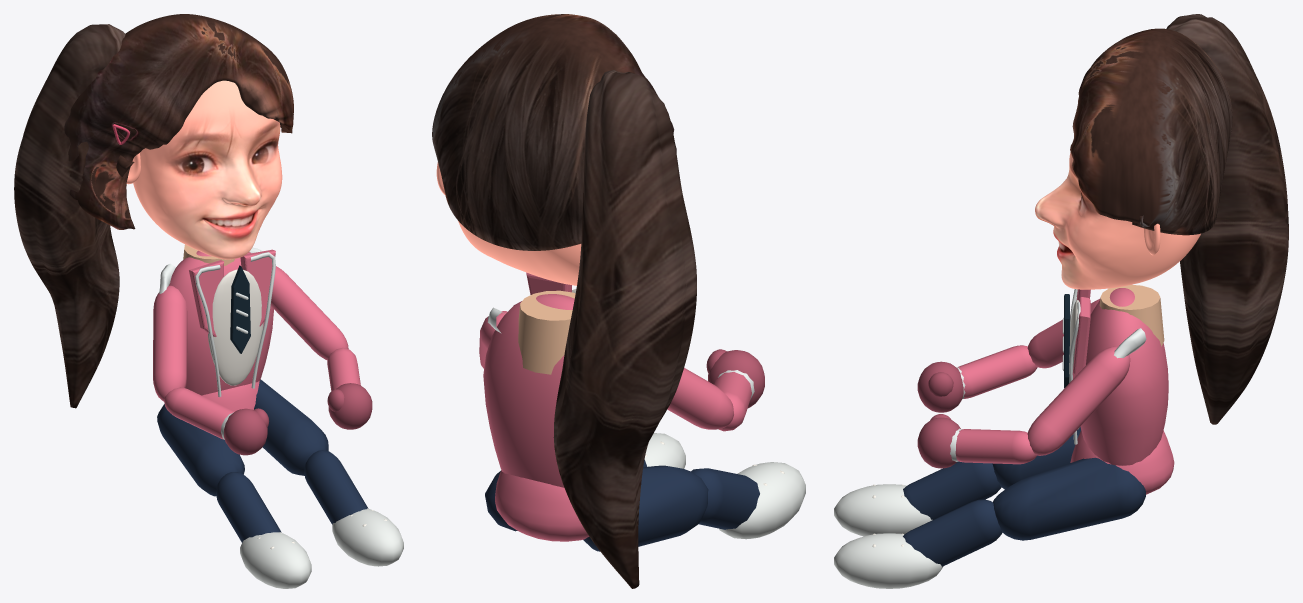
File: girl.glb
3 renders of one model, left to right at view 1: azimuth 30°, elevation 25°; view 2: azimuth 150°, elevation 25°; view 3: azimuth 270°, elevation 25°, orthographic. The views are drawn at different scales.
Parts seen in each view (by area): view 1: PortraitHair_girl, Driver_girl, PortraitVolumeFace, UpperArm_L, UpperArm_R, Forearm_L, Hand_L, Hand_R, Forearm_R; view 2: PortraitHair_girl, Driver_girl, PortraitVolumeFace, UpperArm_L, Hand_L, Forearm_L, UpperArm_R; view 3: PortraitHair_girl, Driver_girl, PortraitVolumeFace, UpperArm_R, Forearm_R, Forearm_L, Hand_L, Hand_R, UpperArm_L.
Boxes of the visible parts, <box> form: PortraitHair_girl: <box>14,14,293,408</box>; Driver_girl: <box>157,244,403,588</box>; PortraitVolumeFace: <box>133,80,282,259</box>; UpperArm_L: <box>153,285,187,401</box>; UpperArm_R: <box>270,266,348,360</box>; Forearm_L: <box>164,387,234,439</box>; Hand_L: <box>224,408,269,455</box>; Hand_R: <box>327,383,372,429</box>; Forearm_R: <box>327,347,360,390</box>; PortraitHair_girl: <box>432,14,696,588</box>; Driver_girl: <box>483,272,805,551</box>; PortraitVolumeFace: <box>458,221,581,285</box>; UpperArm_L: <box>667,368,733,429</box>; Hand_L: <box>706,349,764,408</box>; Forearm_L: <box>714,370,754,431</box>; UpperArm_R: <box>479,311,507,368</box>; PortraitHair_girl: <box>1070,14,1288,424</box>; Driver_girl: <box>834,285,1174,588</box>; PortraitVolumeFace: <box>1035,152,1200,289</box>; UpperArm_R: <box>1027,346,1130,455</box>; Forearm_R: <box>950,428,1036,464</box>; Forearm_L: <box>956,345,1037,398</box>; Hand_L: <box>917,361,963,412</box>; Hand_R: <box>917,414,960,468</box>; UpperArm_L: <box>1027,299,1100,368</box>.
Size of the model in its own units: 1.5 by 2.83 by 2.28.
Materials: 12 (2 with a texture image).
